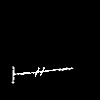treble_crochet: (12, 67, 72, 82)
